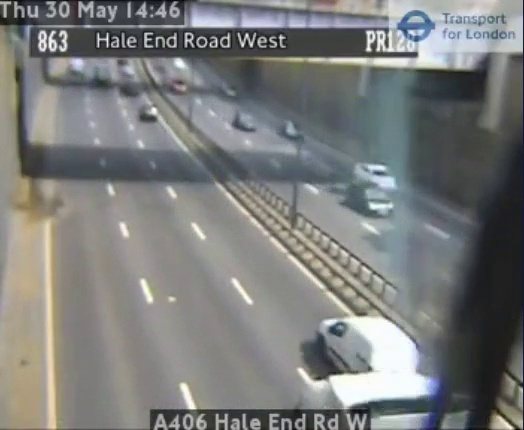van: (320, 317, 418, 370)
